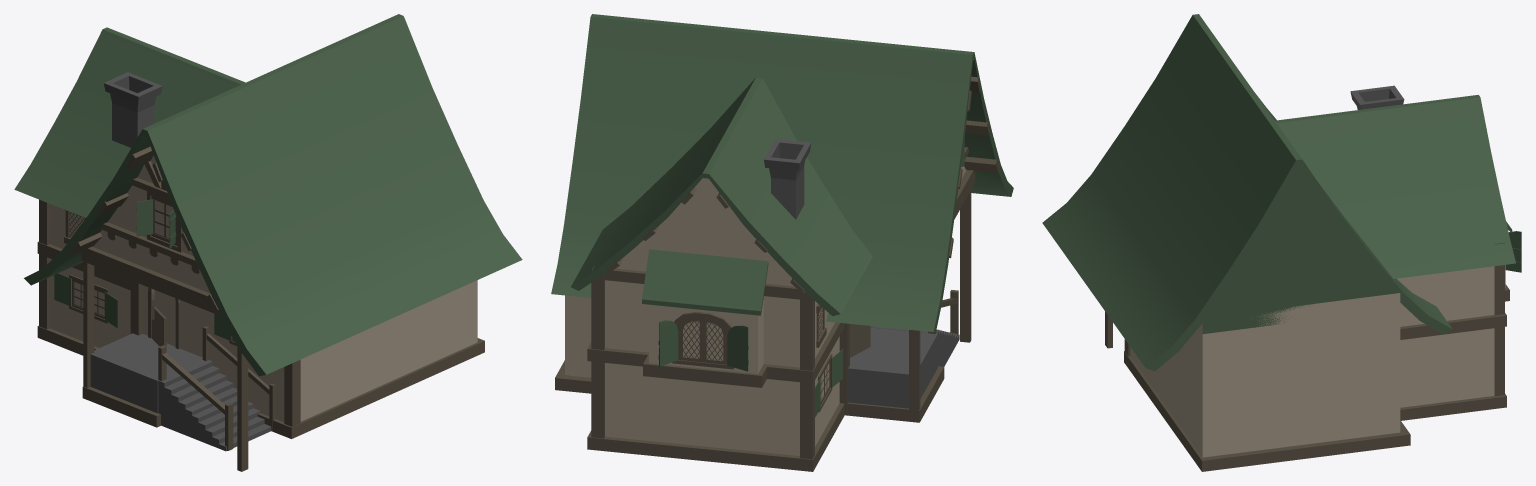
The model's file is House_3.fbx.
The picture shows the model from 3 angles, left to right: view 1: azimuth 30°, elevation 25°; view 2: azimuth 150°, elevation 25°; view 3: azimuth 270°, elevation 25°; orthographic projection. The views are drawn at different scales.
Visible parts, largest first — view 1: house_3, Window_Shutters_6; view 2: house_3, Window_Shutters_5, Window_Shutters_4, door_down; view 3: house_3.
Part boxes in pixels (x1,y1,x2,y2): house_3: [14, 14, 522, 471]; Window_Shutters_6: [136, 199, 152, 236]; house_3: [551, 14, 1013, 471]; Window_Shutters_5: [727, 325, 748, 371]; Window_Shutters_4: [658, 320, 678, 366]; door_down: [850, 324, 870, 357]; house_3: [1042, 14, 1515, 471].
Bounding box in the file's own units: 1230 × 955 × 1351.
